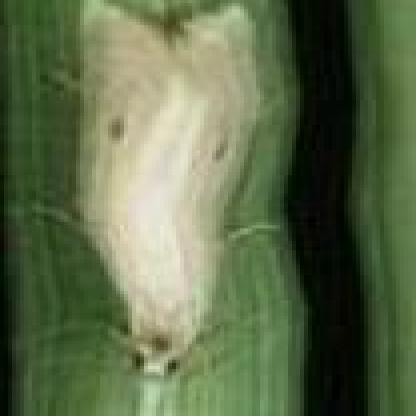stem-borer: (10, 0, 289, 416)
